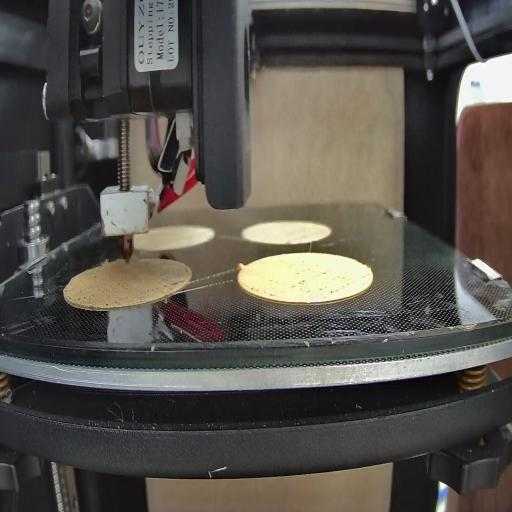under_extrusion: (290, 260, 366, 298), (67, 287, 111, 310), (247, 283, 280, 302), (167, 272, 190, 294)
